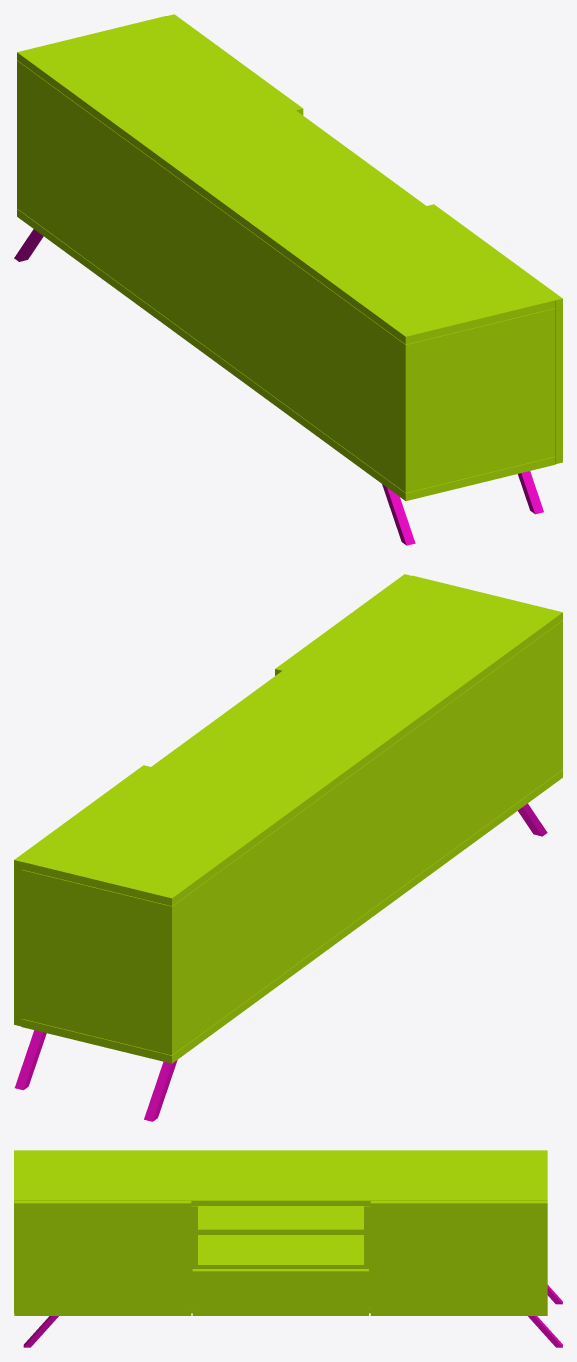
File: Cabinet_v1.fbx
3 renders of one model, top to bottom at view 1: azimuth 30°, elevation 25°; view 2: azimuth 150°, elevation 25°; view 3: azimuth 270°, elevation 25°, orthographic. The views are drawn at different scales.
Parts seen in each view (by area): view 1: Cube_001, Legs; view 2: Cube_001, Legs; view 3: Cube_001, Legs.
Part boxes in pixels (<box>): Cube_001: <box>17,14,562,500</box>; Legs: <box>14,229,543,545</box>; Cube_001: <box>14,574,562,1063</box>; Legs: <box>14,803,547,1121</box>; Cube_001: <box>14,1150,547,1315</box>; Legs: <box>23,1285,562,1347</box>.
Bounding box in the file's own units: 55.33 × 72.6 × 244.
